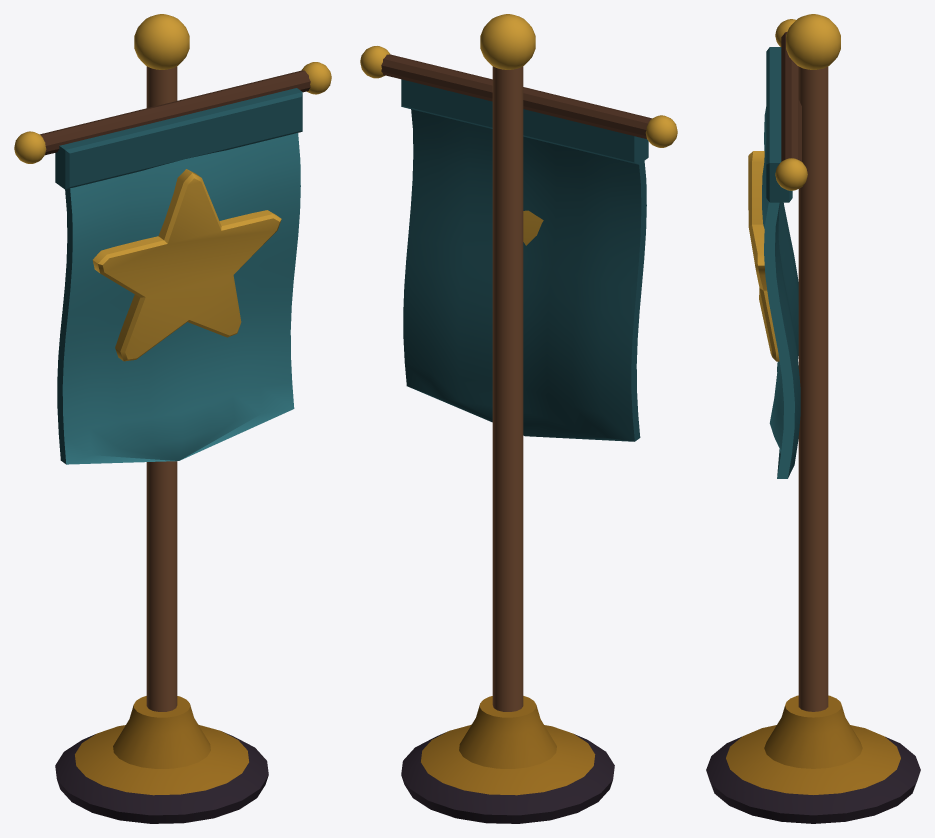
The model's file is Banner_02.glb.
3 renders of one model, left to right at view 1: azimuth 30°, elevation 25°; view 2: azimuth 150°, elevation 25°; view 3: azimuth 270°, elevation 25°, orthographic.
Parts seen in each view (by area): view 1: Banner_02; view 2: Banner_02; view 3: Banner_02.
Boxes of the visible parts, x1,y1,x2,y2 form: Banner_02: (14, 14, 331, 823); Banner_02: (360, 14, 677, 823); Banner_02: (706, 14, 920, 823).
Size of the model in its own units: 3.3 by 7.68 by 1.96.
